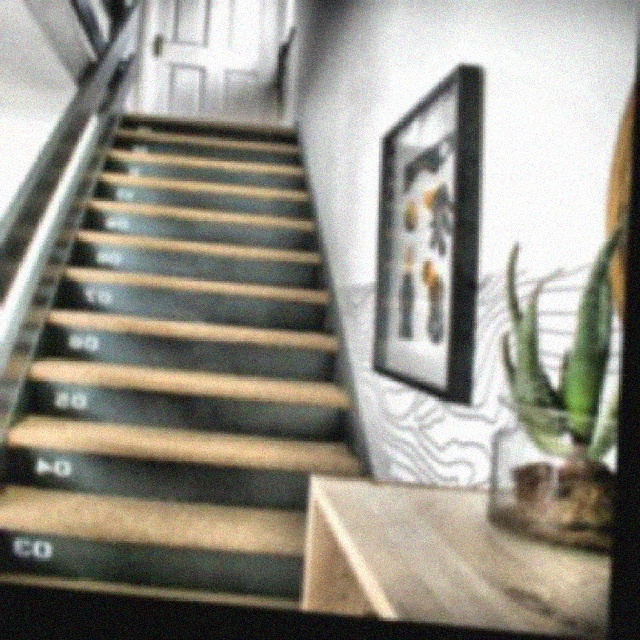stair: (1, 88, 357, 569)
